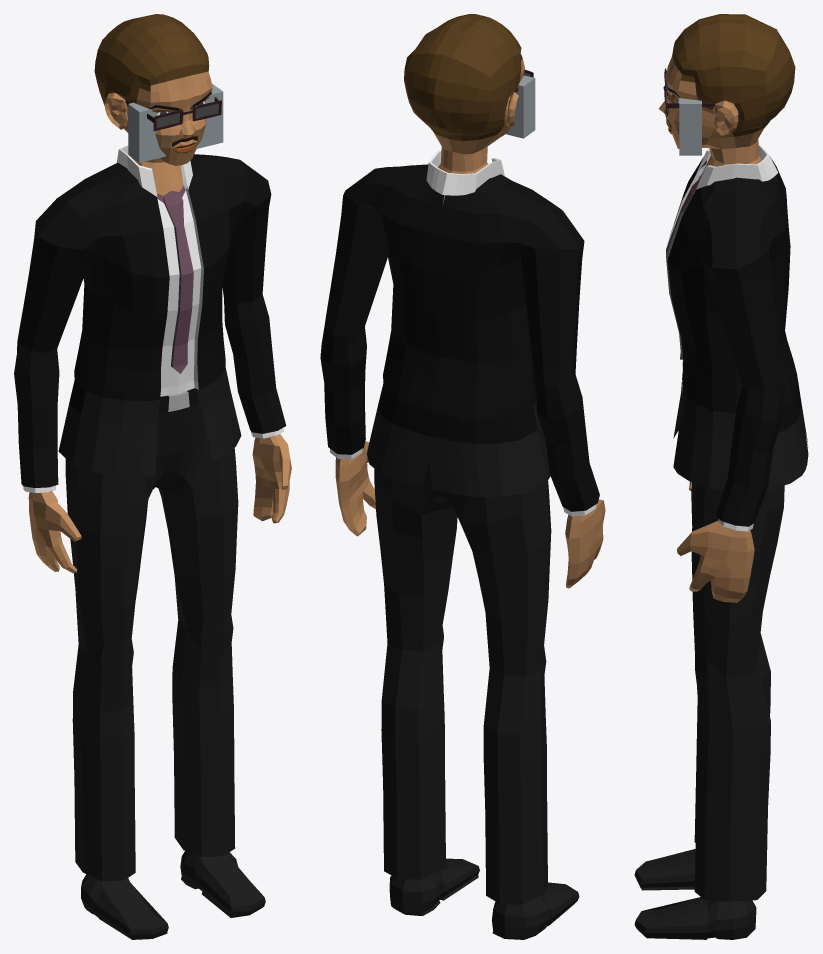
Rendered from TeacherMale_B_Stand_Mask.fbx.
3 renders of one model, left to right at view 1: azimuth 30°, elevation 25°; view 2: azimuth 150°, elevation 25°; view 3: azimuth 270°, elevation 25°, orthographic. The views are drawn at different scales.
Parts seen in each view (by area): view 1: TeacherMale_B_Stand_Mask; view 2: TeacherMale_B_Stand_Mask; view 3: TeacherMale_B_Stand_Mask.
Boxes of the visible parts, bbox=[...] form: TeacherMale_B_Stand_Mask: bbox=[14, 14, 291, 939]; TeacherMale_B_Stand_Mask: bbox=[320, 14, 605, 939]; TeacherMale_B_Stand_Mask: bbox=[634, 14, 808, 939].
Bounding box in the file's own units: 0.2953 × 0.9445 × 0.1679.
